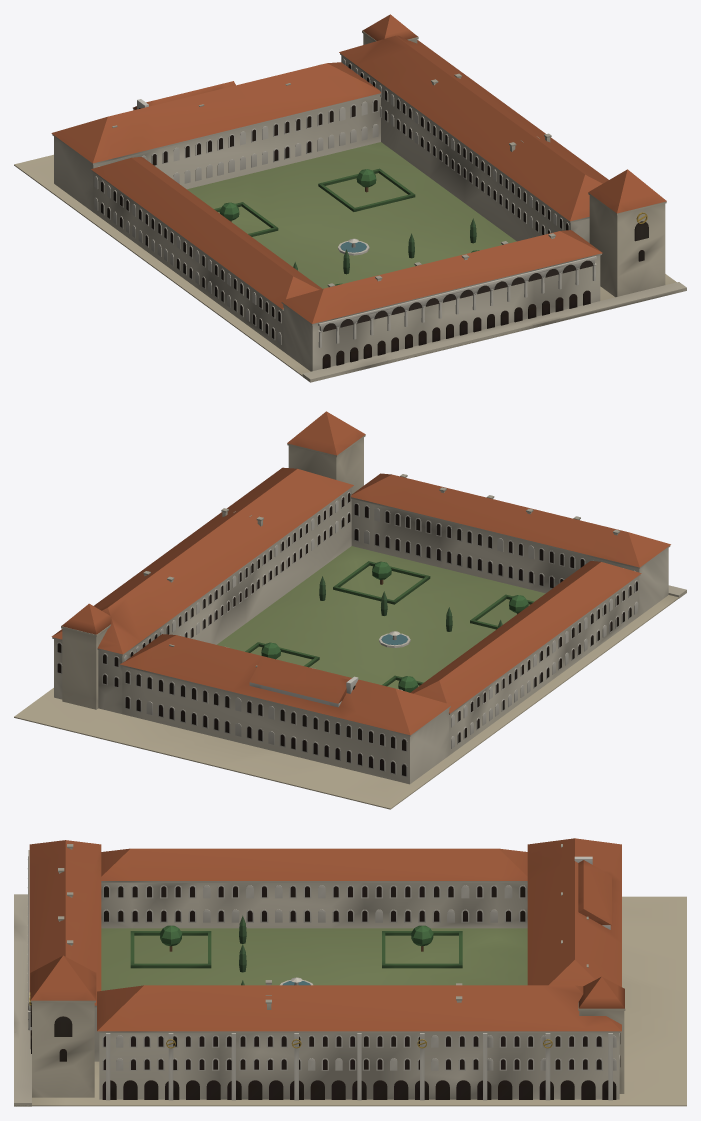
Rendered from paco-ribeira.glb.
The picture shows the model from 3 angles, top to bottom: view 1: azimuth 30°, elevation 25°; view 2: azimuth 150°, elevation 25°; view 3: azimuth 270°, elevation 25°; orthographic projection. The views are drawn at different scales.
Parts seen in each view (by area): view 1: p1_palace, p2_towers, p0_ground; view 2: p1_palace, p0_ground, p2_towers; view 3: p1_palace, p0_ground, p2_towers.
Part boxes in pixels (x1,y1,x2,y2): p1_palace: (51,35,608,371); p2_towers: (133,14,666,297); p0_ground: (14,154,686,382); p1_palace: (51,467,670,784); p0_ground: (14,585,686,809); p2_towers: (61,411,365,709); p1_palace: (27,838,621,1100); p0_ground: (14,894,686,1106); p2_towers: (29,856,625,1097).
Size of the model in its own units: 110 by 32.06 by 150.
